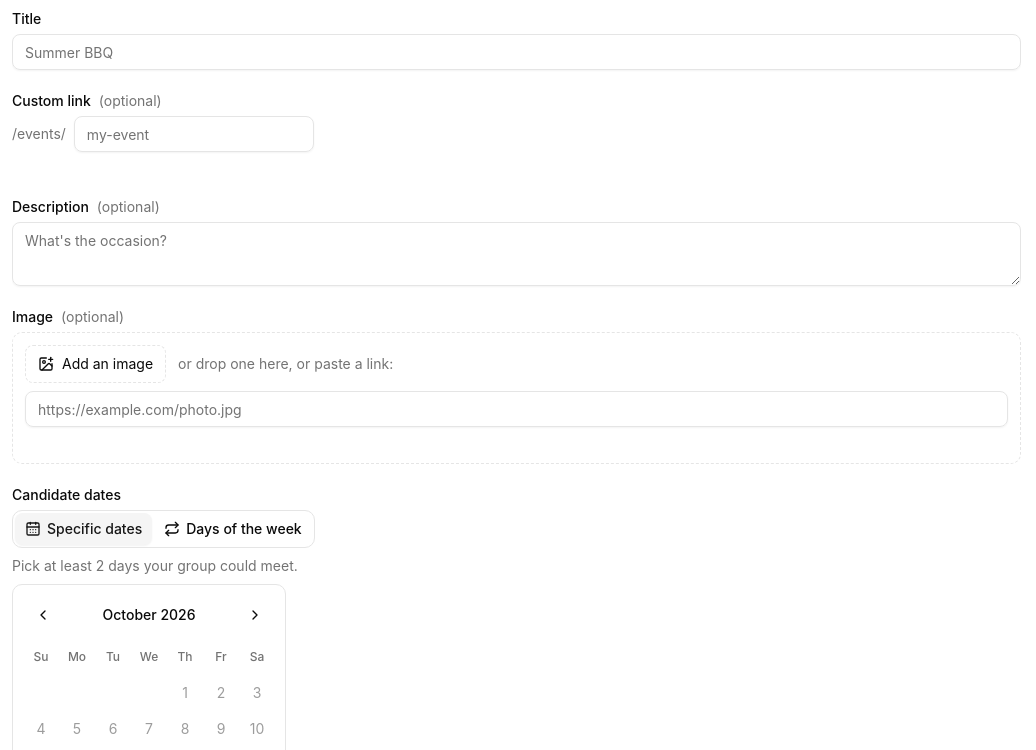
Test: EventForm slug availability › flags invalid formats inline without querying
Type "Not A Slug!" into the field labelled "Custom link (optional)".
click(194, 134); type("Not A Slug!")  # box [74, 116, 314, 152]
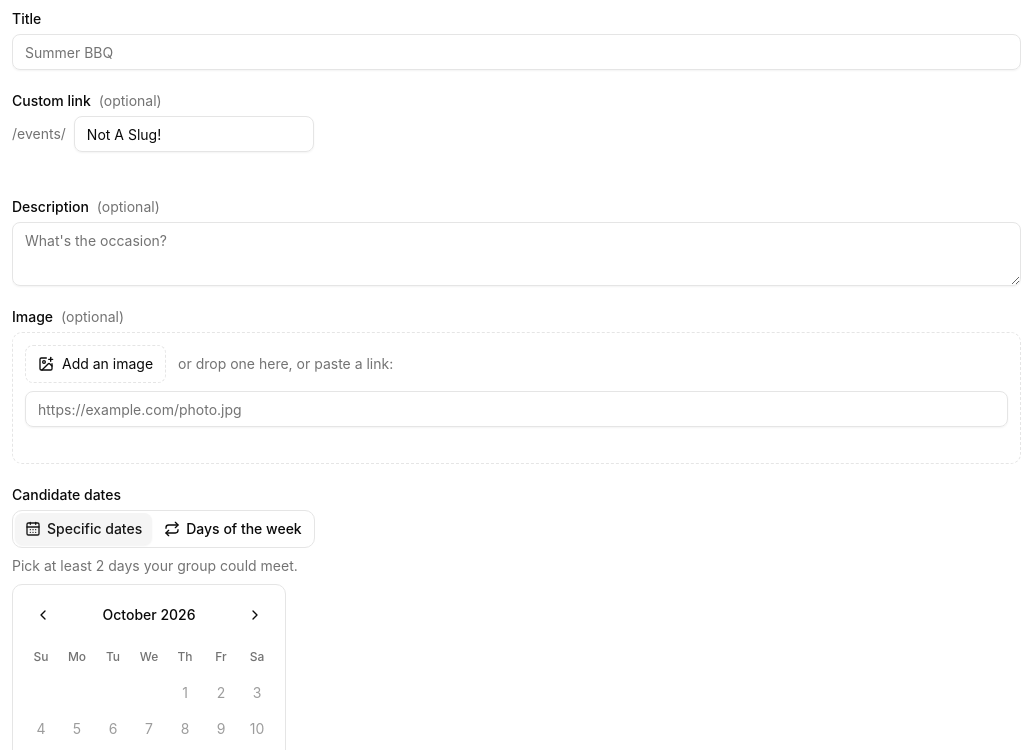
Leave the field labelled "Custom link (optional)", box [74, 116, 314, 152]
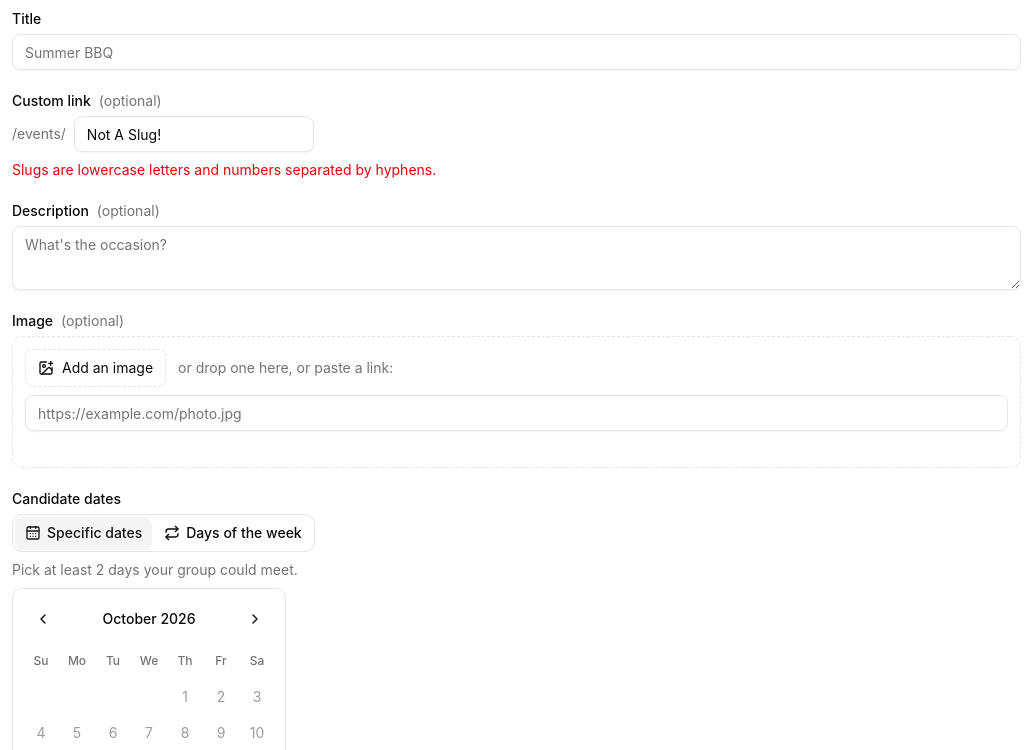
Now the text "Slugs are lowercase letters" is shown, box [12, 161, 436, 178]
